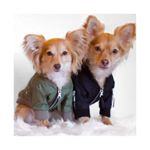puppy: (18, 26, 86, 79), (82, 13, 136, 74)
